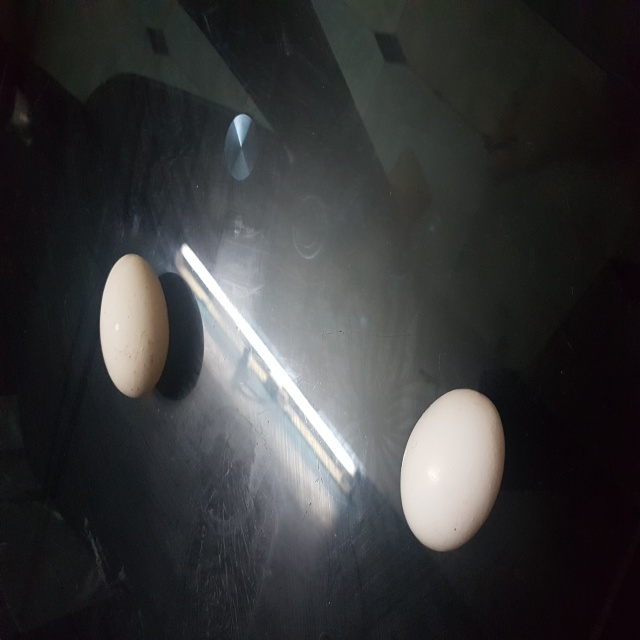eggs: (383, 372, 518, 565), (92, 252, 189, 400)
